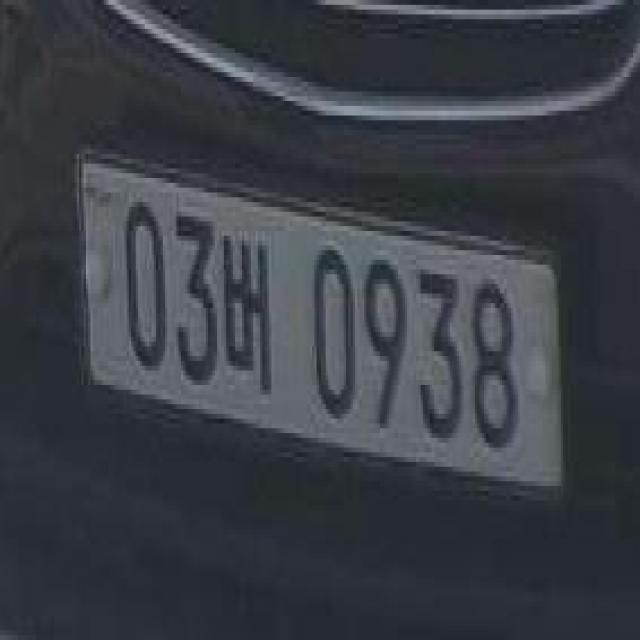illegal_plate: (78, 146, 565, 514)
